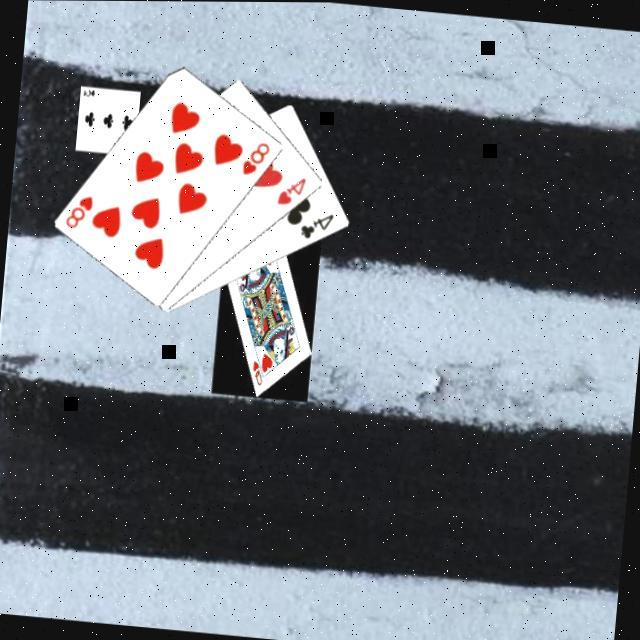4C: (294, 206, 336, 241)
4H: (272, 170, 307, 208)
8H: (60, 188, 94, 232), (236, 136, 271, 178)
